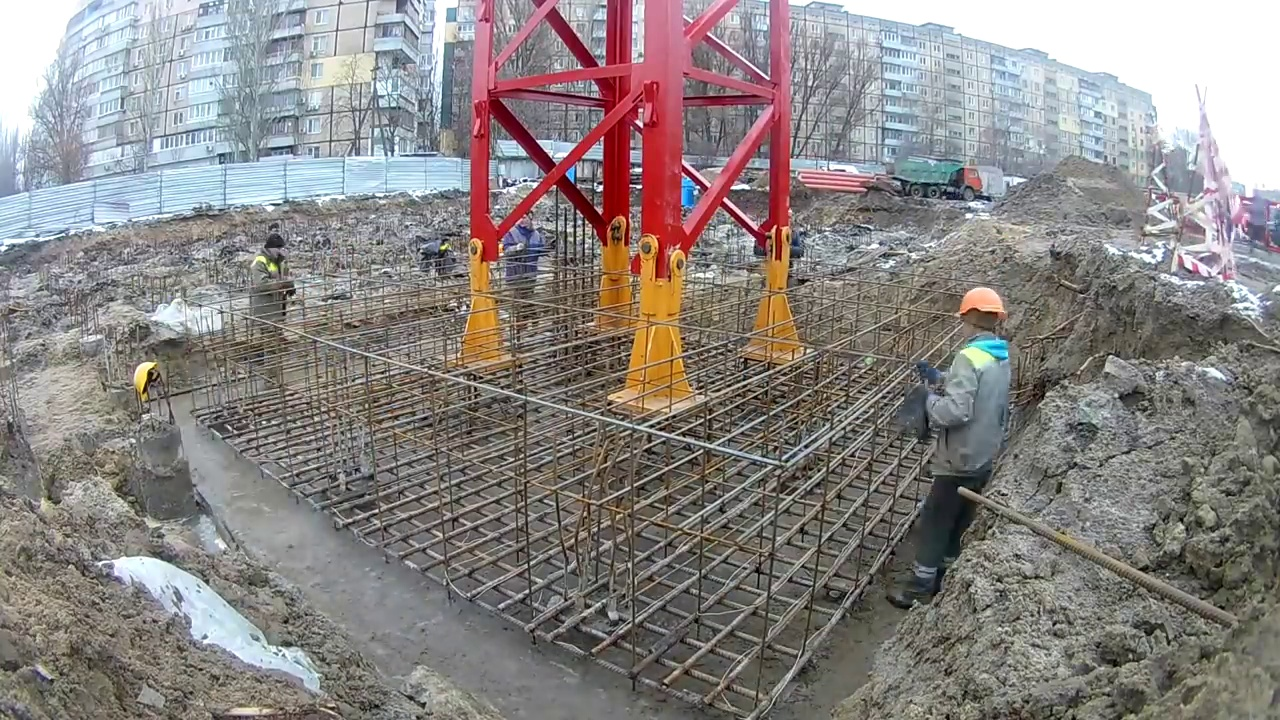helmet: (955, 287, 1008, 320), (133, 360, 158, 403)
helmet-off: (263, 233, 285, 263), (515, 208, 536, 230)
helmet-on: (955, 291, 1007, 347)
person: (883, 287, 1016, 615), (250, 234, 295, 333), (503, 209, 545, 296)
